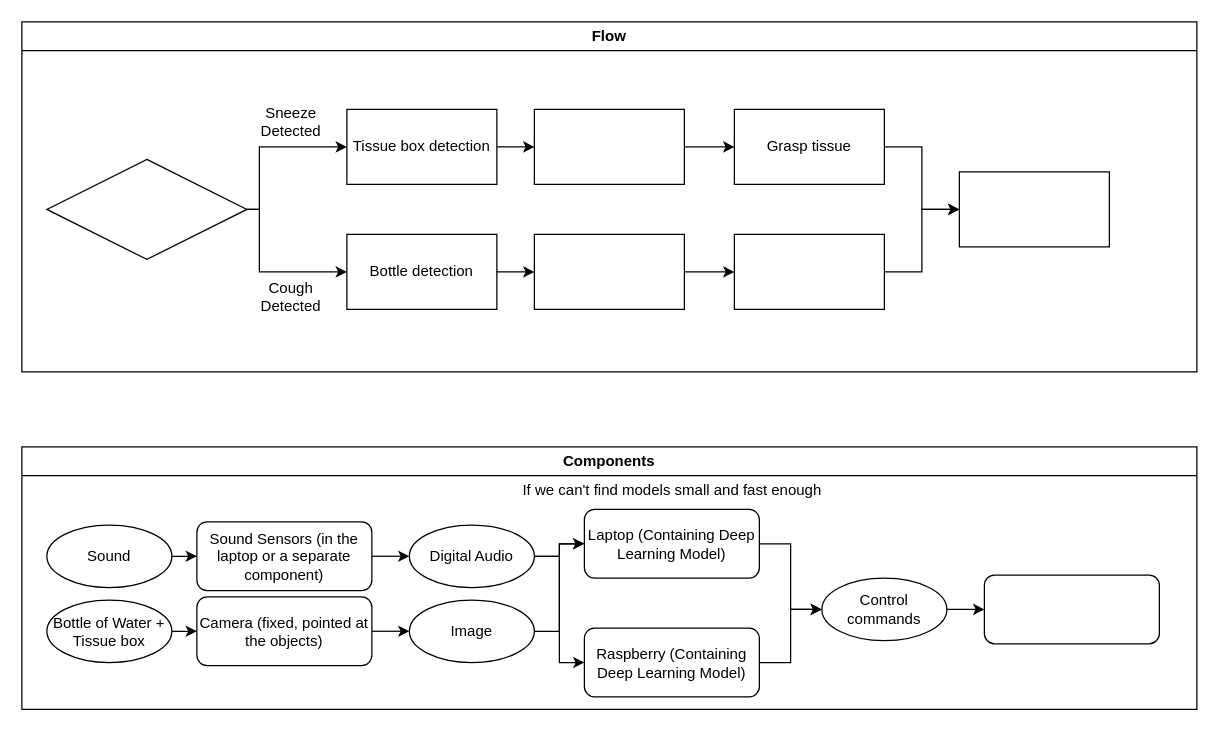
This 1219x731 diagram has some shape labels left out. The shapes that lost their labels are listed below. From the top down, each one's centre as x and y in pixels, then its label:
At pixel 608 146: "Control Command to grab tissue".
At pixel 146 208: "Audio Detection".
At pixel 1033 209: "Lift, turn 180 degs, and release grasp, then return to origin".
At pixel 608 271: "Control Command to grab bottle".
At pixel 808 271: "Grasp bottle".
At pixel 1071 609: "Robot Arm".
